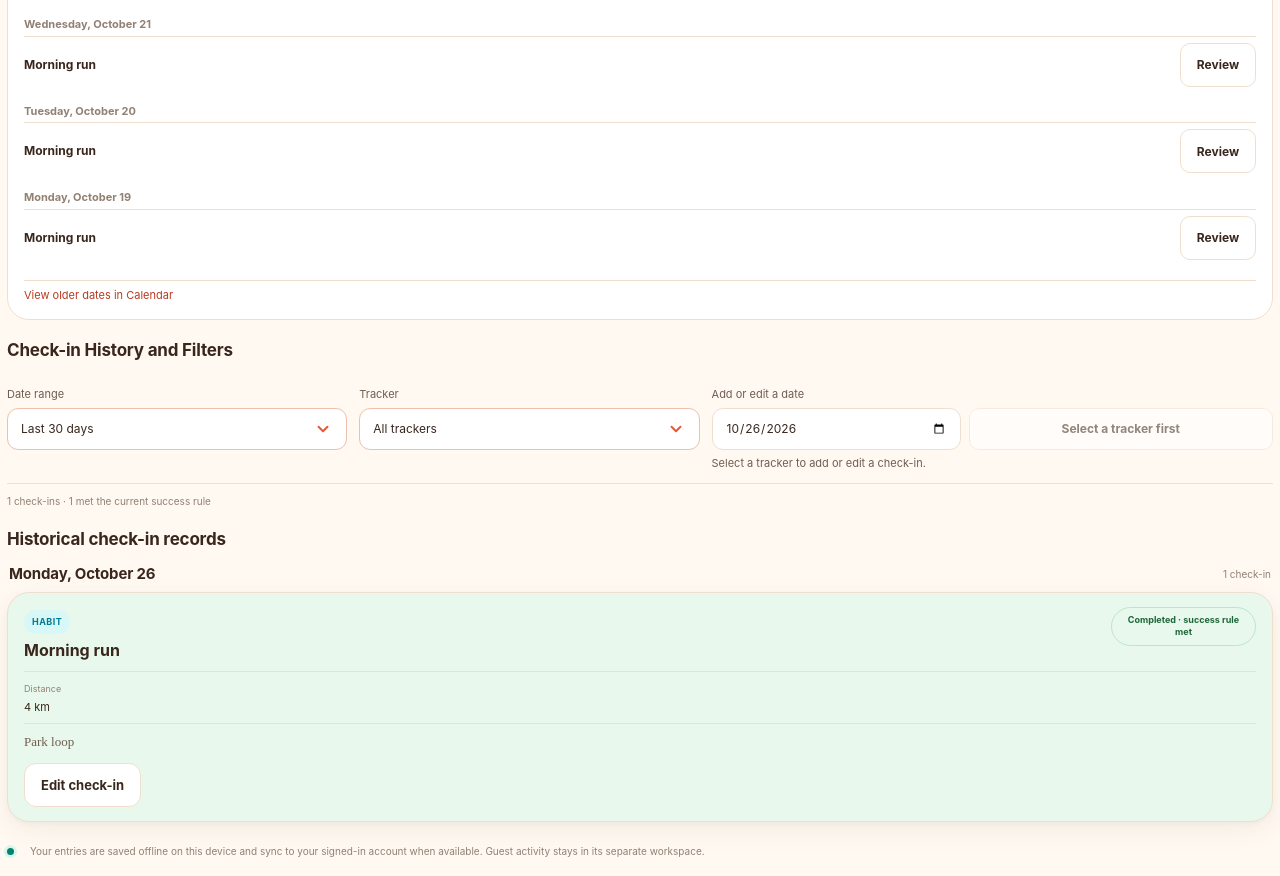
Test: local check-in history › confirms a historical check-in edit after the local write succeeds
(page scrolled)
Click the button with aria-label "Edit check-in for" at (83,785), box [24,763,141,807]
(page scrolled)
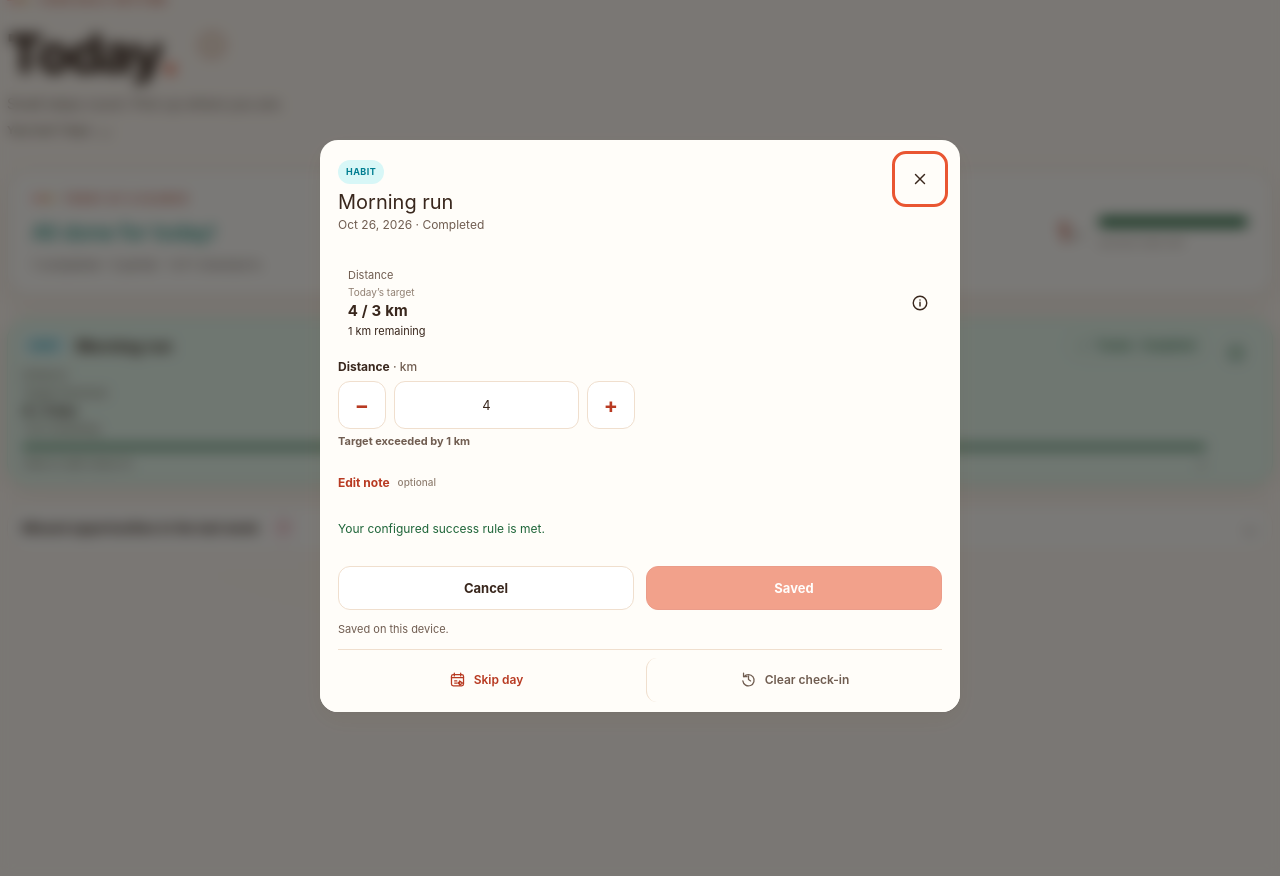
Clear the number field labelled "Distance" at (486,405), box [394,381,579,429]
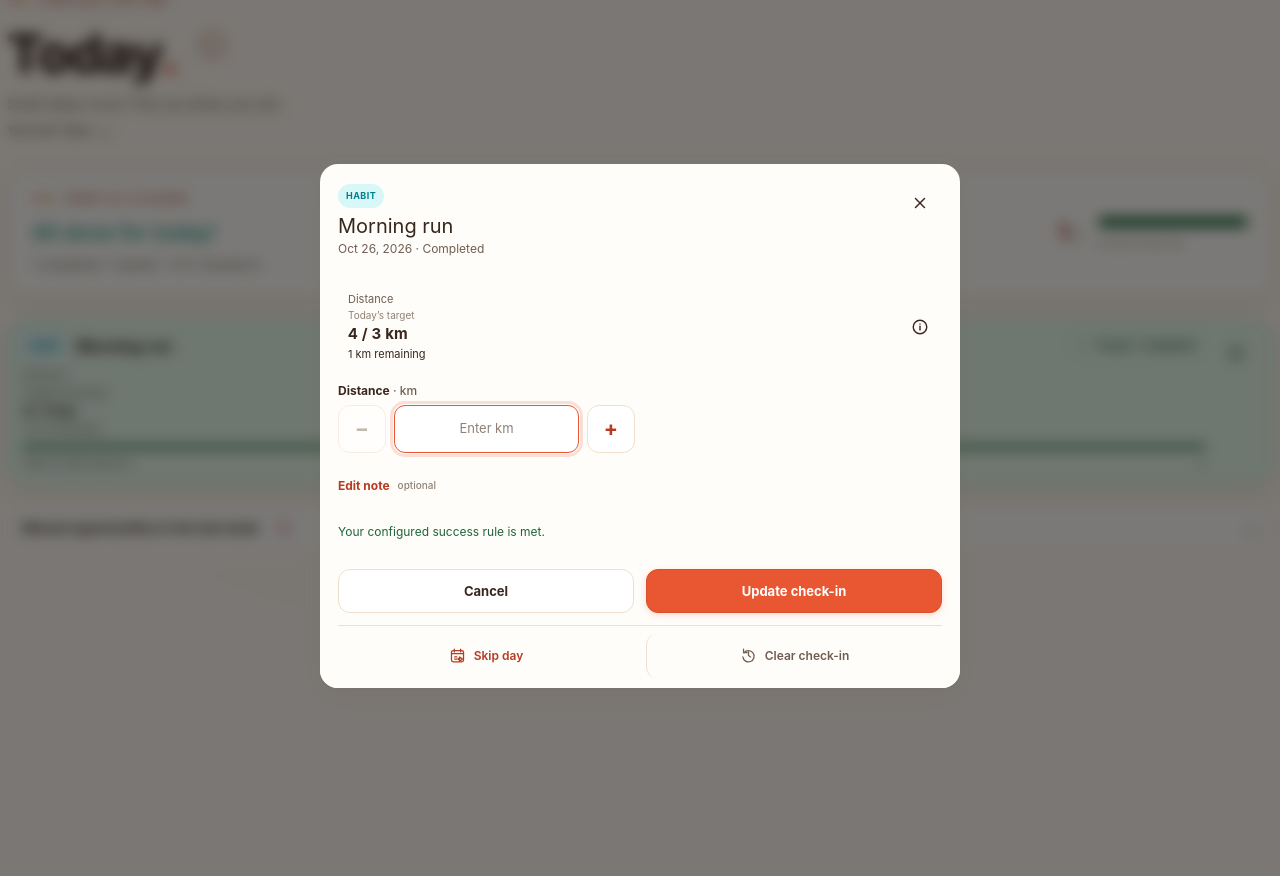
Type "6" into the number field labelled "Distance" at (486,429), box [394,405,579,453]
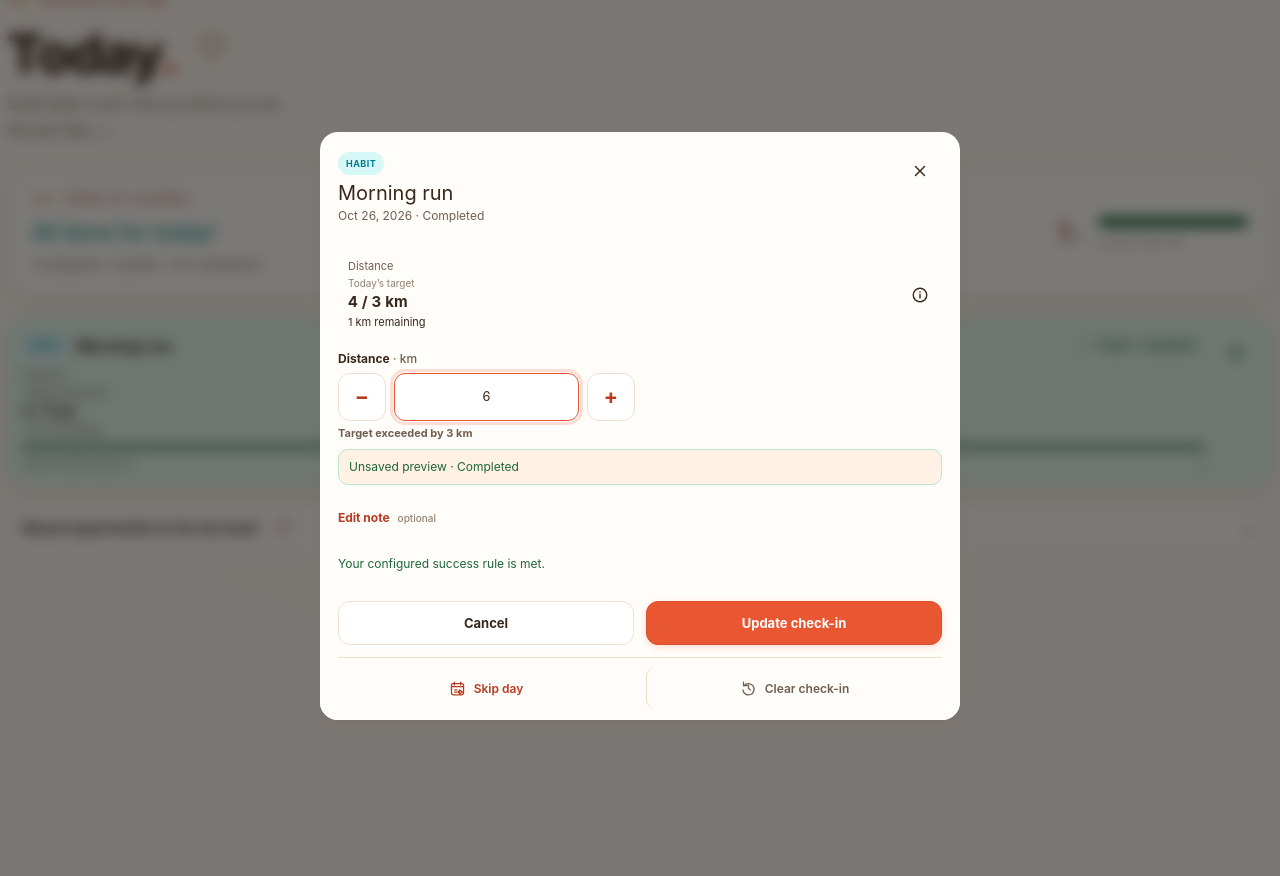
Click the button "Update check-in" at (794,623), box [646,601,942,645]
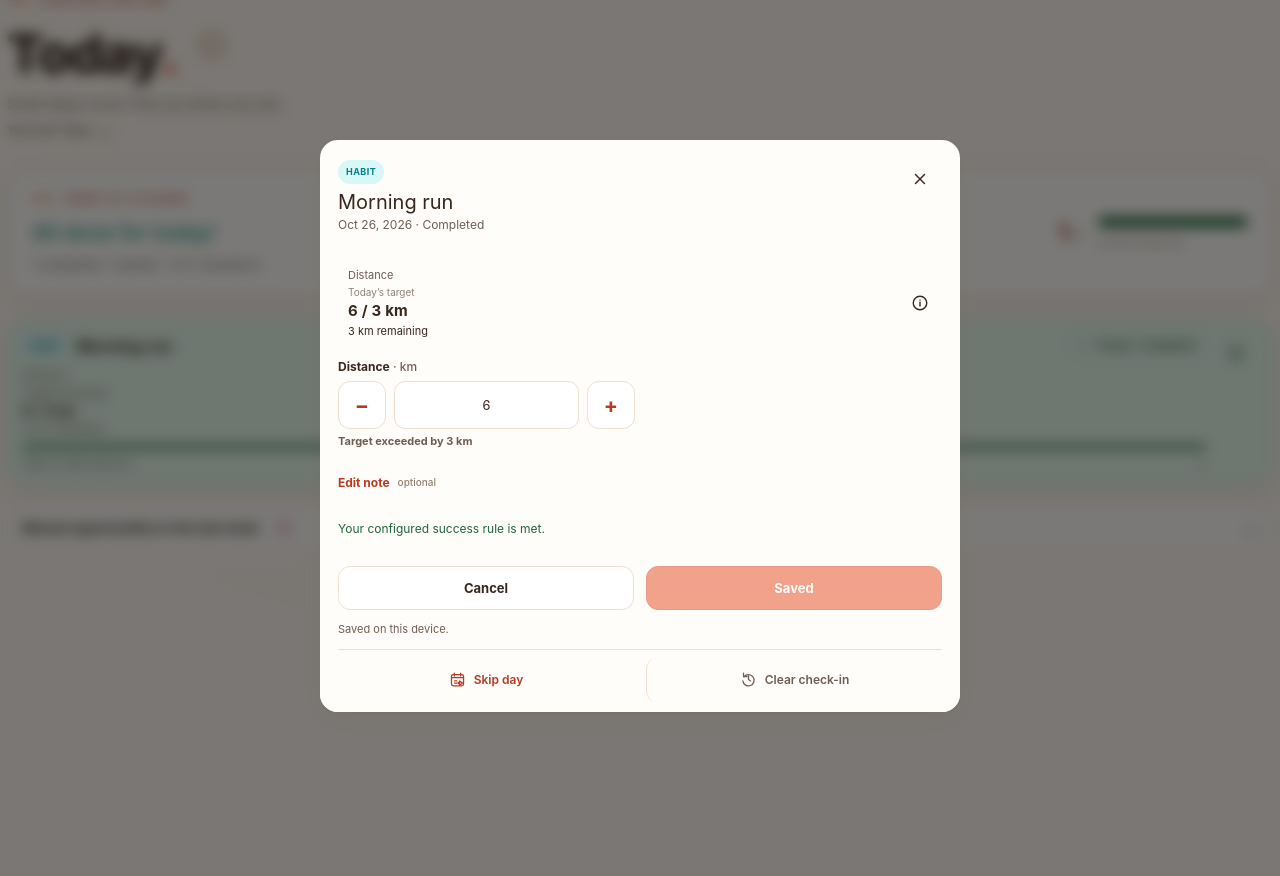
Expected: the button "Saved" is shown, [646,566,942,610]
Expected: the button "Update check-in" is gone
